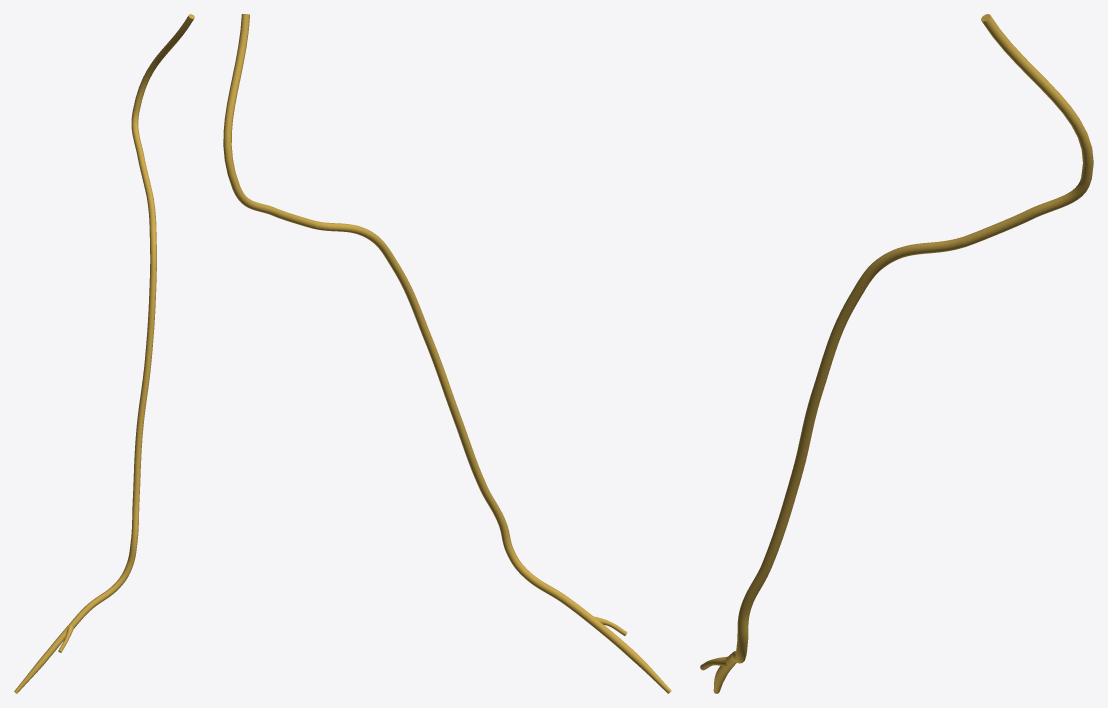
The picture shows the model from 3 angles, left to right: view 1: azimuth 30°, elevation 25°; view 2: azimuth 150°, elevation 25°; view 3: azimuth 270°, elevation 25°; orthographic projection. The views are drawn at different scales.
Visible parts, largest first — view 1: 右侧展神经; view 2: 右侧展神经; view 3: 右侧展神经.
Boxes of the visible parts, <box> form: 右侧展神经: <box>14,14,194,693</box>; 右侧展神经: <box>223,14,671,693</box>; 右侧展神经: <box>700,14,1093,693</box>.
Bounding box in the file's own units: 0.0462 × 0.0923 × 0.0374.
